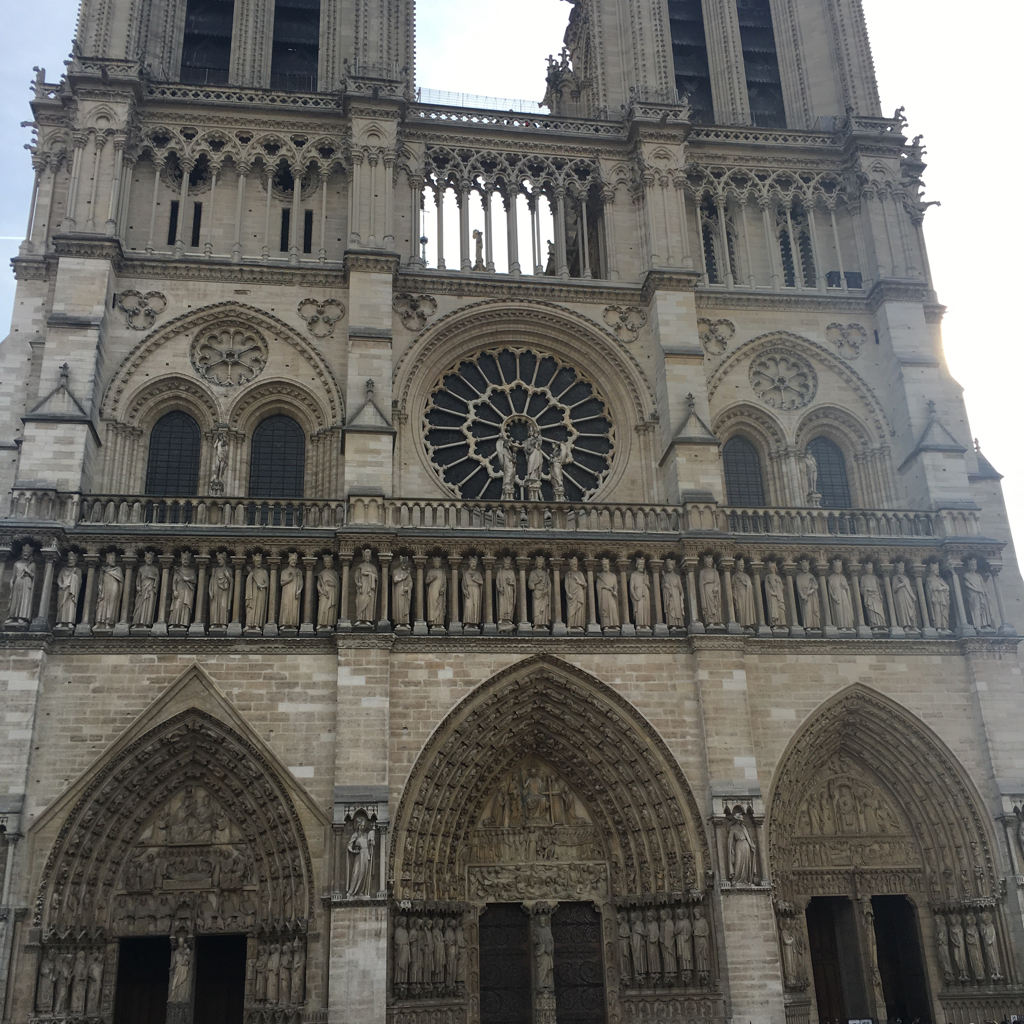arco-apuntado: (389, 648, 708, 835), (40, 703, 319, 868), (766, 676, 993, 830), (99, 296, 345, 417), (707, 326, 894, 440)
